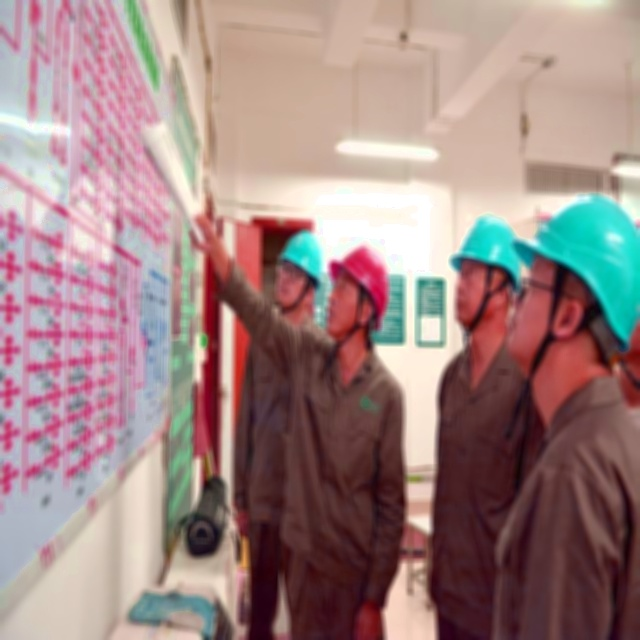Con_Casco: (276, 227, 324, 316)
Sin_Chaleco: (288, 335, 404, 600)
